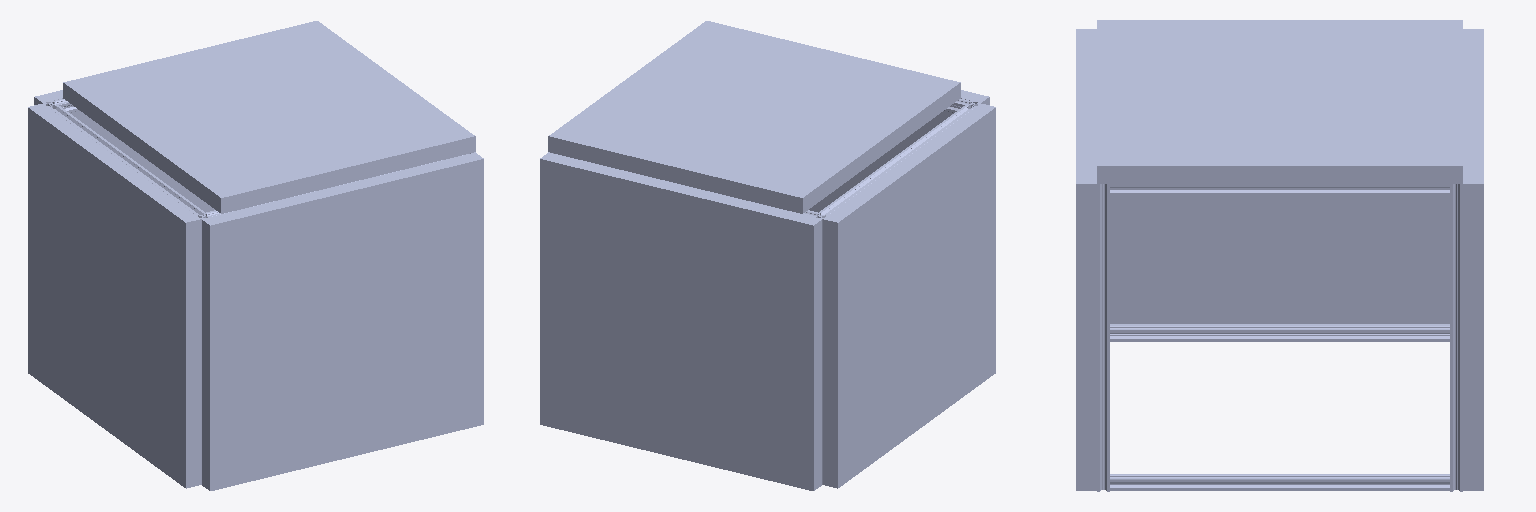
robot.urdf — dock_base:
<?xml version="1.0" encoding="utf-8"?>
<!-- This URDF was automatically created by SolidWorks to URDF Exporter! Originally created by [author] ([email redacted]) 
     Commit Version: 1.5.1-0-g916b5db  Build Version: 1.5.7152.31018
     For more information, please see http://wiki.ros.org/sw_urdf_exporter -->
<robot
  name="dock_base">
  <link
    name="dock_base">
    <inertial>
      <origin
        xyz="-0.58401 -0.46817 0.42127"
        rpy="0 0 0" />
      <mass
        value="42.043" />
      <inertia
        ixx="3.4293"
        ixy="3.48467093592189E-14"
        ixz="-0.24023"
        iyy="2.6134"
        iyz="-3.89843594391804E-14"
        izz="3.6201" />
    </inertial>
    <visual>
      <origin
        xyz="0 0 0"
        rpy="1.5707963267949 0 0" />
      <geometry>
        <mesh
          filename="package://dock_base/meshes/dock_base.STL" />
      </geometry>
      <material
        name="">
        <color
          rgba="0.79216 0.81961 0.93333 1" />
        <texture
          filename="package://dock_base/textures/" />
      </material>
    </visual>
    <collision>
      <origin
        xyz="0 0 0"
        rpy="1.5707963267949 0 0" />
      <geometry>
        <mesh
          filename="package://dock_base/meshes/dock_base.STL" />
      </geometry>
    </collision>
  </link>
</robot>

--- Facts derived from the render (not from the file) ---
The picture shows the robot from 3 angles, left to right: view 1: azimuth 30°, elevation 25°; view 2: azimuth 150°, elevation 25°; view 3: azimuth 270°, elevation 25°; orthographic projection.
Model dock_base with 1 links and 0 joints (none), rooted at dock_base, posed all joints at 0.
Visible links, largest first — view 1: dock_base; view 2: dock_base; view 3: dock_base.
Boxes of the visible links, x1,y1,x2,y2 form: dock_base: [28, 21, 483, 490]; dock_base: [540, 21, 995, 490]; dock_base: [1076, 20, 1483, 491].
Bounding box of the posed robot: 0.57 × 0.6 × 0.53 m (x, y, z).
Meshes: 1 distinct files referenced, 1 mesh visuals loaded (1 binary STL).